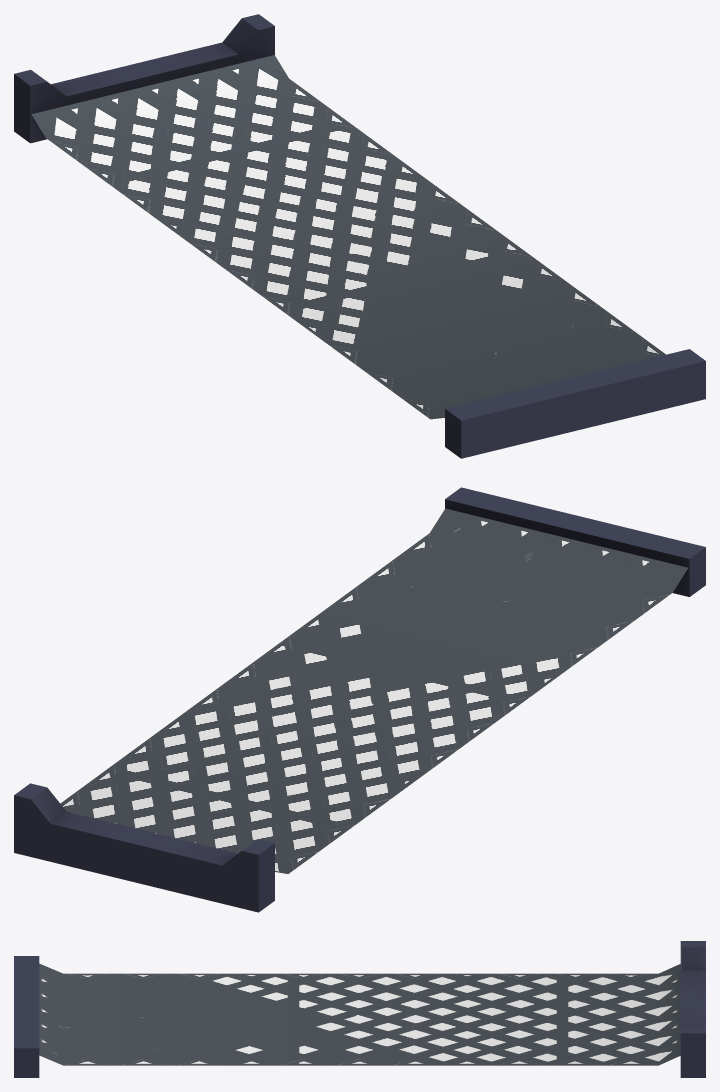
The model's file is platform.FBX.
3 views of the same model, one above another, from view 1: azimuth 30°, elevation 25°; view 2: azimuth 150°, elevation 25°; view 3: azimuth 270°, elevation 25° (orthographic). The views are drawn at different scales.
Visible parts, largest first — view 1: Box001; view 2: Box001; view 3: Box001.
Part boxes in pixels (bbox=[...]): Box001: bbox=[14, 14, 705, 458]; Box001: bbox=[14, 487, 705, 912]; Box001: bbox=[14, 941, 705, 1077].
Size of the model in its own units: 30.01 by 6.75 by 94.99.
